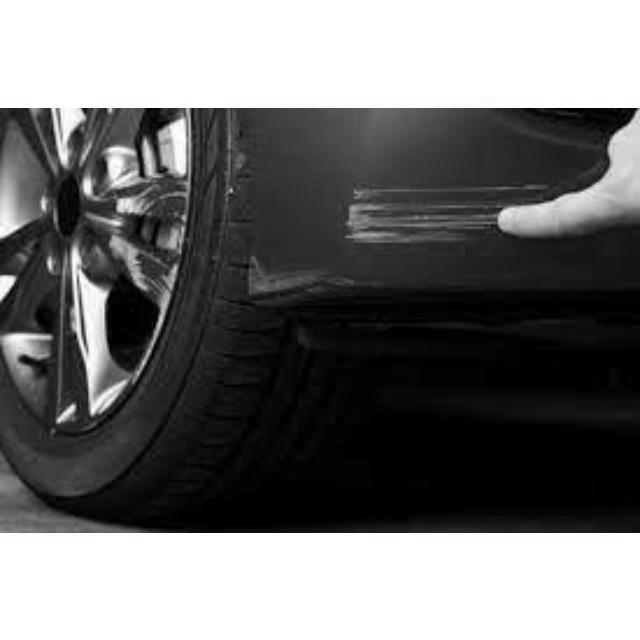front-bumper-dent: (165, 108, 637, 333)
